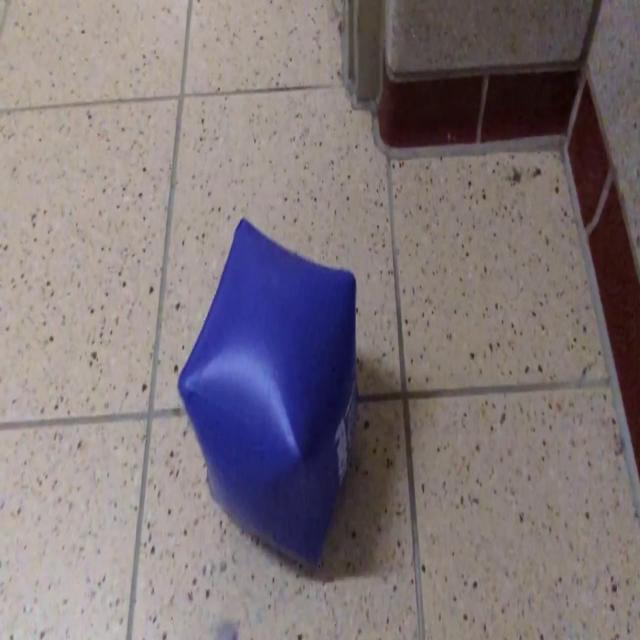frc_cube: (177, 218, 357, 569)
